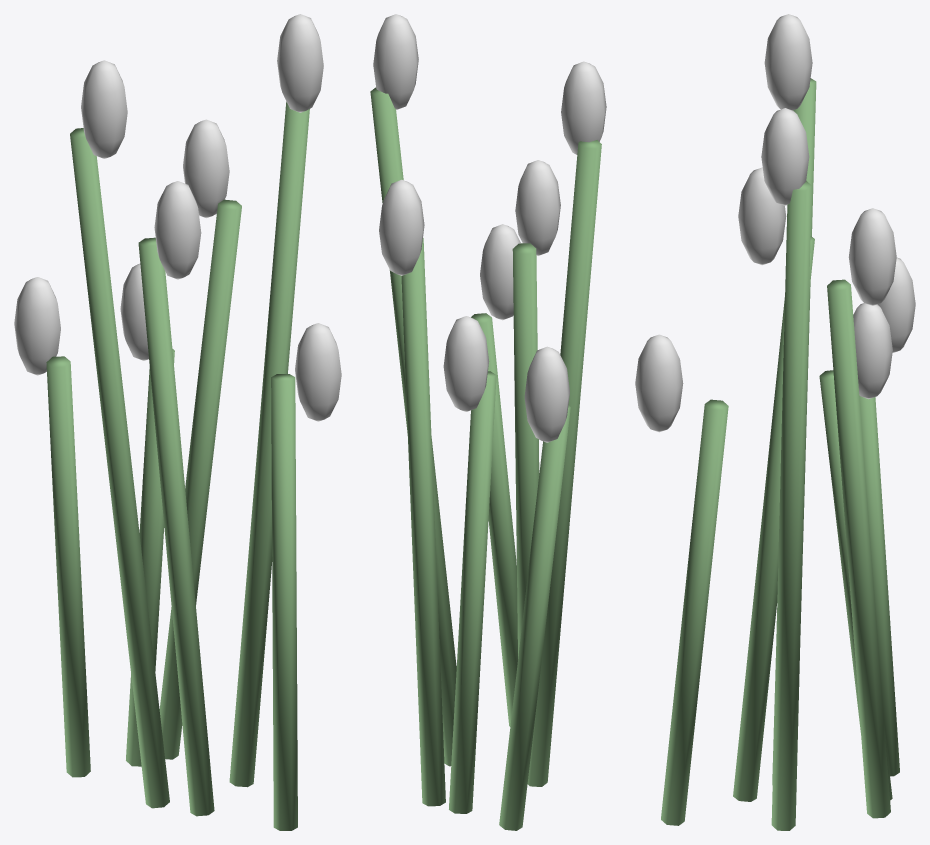
File: reeds.fbx
3 views of the same model, side by side, from view 1: azimuth 30°, elevation 25°; view 2: azimuth 150°, elevation 25°; view 3: azimuth 270°, elevation 25° (orthographic). The views are drawn at different scales.
Visible parts, largest first — view 1: EN_reeds; view 2: EN_reeds; view 3: EN_reeds.
Boxes of the visible parts, x1,y1,x2,y2 form: EN_reeds: [14, 14, 341, 830]; EN_reeds: [370, 14, 606, 830]; EN_reeds: [635, 14, 915, 830].
Bounding box in the file's own units: 33.48 × 96.3 × 32.72.
